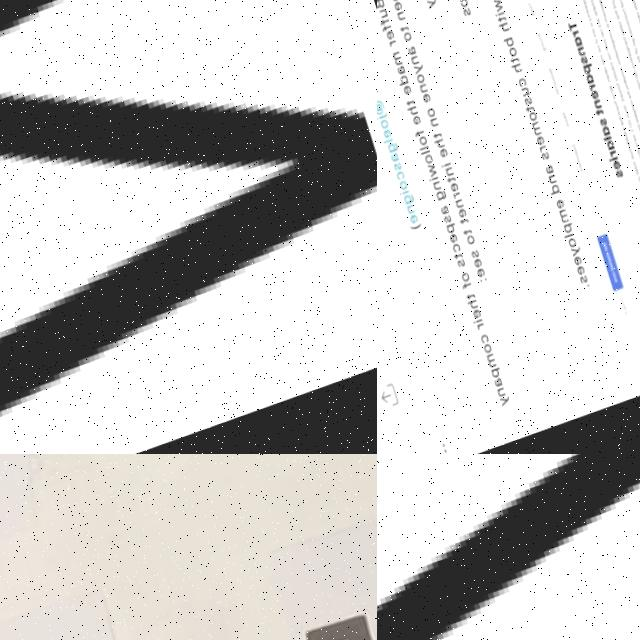5: (286, 572, 377, 640)
A: (388, 155, 399, 168), (492, 381, 503, 394), (405, 48, 416, 61), (604, 146, 615, 158), (600, 131, 610, 144), (584, 79, 594, 91), (438, 209, 448, 220), (395, 69, 405, 79), (543, 170, 553, 180), (572, 42, 582, 52)
B: (501, 41, 513, 53), (377, 0, 384, 12)
C: (516, 81, 526, 93), (478, 339, 488, 350), (450, 247, 460, 258), (394, 175, 404, 185)
D: (396, 78, 408, 90), (547, 189, 559, 201)
E: (571, 260, 582, 273), (401, 88, 412, 100), (420, 96, 431, 108), (456, 212, 467, 224), (574, 270, 585, 282), (472, 261, 482, 274), (448, 186, 458, 198), (554, 204, 564, 216), (382, 132, 392, 143), (410, 118, 420, 129), (447, 237, 457, 248), (470, 313, 480, 324), (408, 218, 418, 228), (392, 5, 402, 15), (437, 152, 447, 162), (475, 272, 485, 282), (534, 141, 544, 151), (611, 167, 621, 177), (385, 34, 393, 43), (590, 96, 598, 105)
F: (460, 285, 470, 295), (378, 21, 389, 30), (412, 133, 423, 142), (381, 27, 390, 36)
G: (386, 145, 398, 157), (402, 197, 414, 209), (433, 193, 445, 205)
H: (496, 26, 508, 38), (405, 110, 417, 121), (466, 304, 478, 315), (509, 68, 521, 79), (433, 144, 443, 154)
I: (607, 161, 618, 169), (398, 193, 408, 200), (428, 180, 438, 187), (472, 323, 482, 329), (440, 167, 450, 173), (494, 16, 504, 22)
J: (377, 116, 387, 123)
L: (562, 238, 572, 244), (382, 142, 392, 147), (420, 154, 430, 159), (419, 150, 427, 154), (602, 143, 610, 147)
M: (391, 55, 402, 70), (485, 358, 495, 373), (558, 214, 568, 229), (530, 127, 540, 141)
N: (0, 0, 377, 454), (404, 208, 414, 219), (428, 121, 438, 132), (443, 171, 453, 182), (430, 185, 440, 196), (495, 392, 505, 402), (394, 15, 404, 25), (453, 203, 463, 213), (546, 180, 556, 190), (409, 59, 418, 70), (592, 105, 601, 116), (576, 51, 584, 63), (418, 87, 426, 97)
O: (377, 121, 388, 134), (526, 115, 537, 128), (397, 182, 408, 194), (417, 139, 428, 151), (481, 348, 492, 360), (464, 238, 474, 251), (566, 242, 576, 255), (506, 51, 516, 63), (422, 157, 432, 168), (458, 276, 468, 287), (414, 77, 424, 88), (424, 111, 434, 122), (402, 36, 410, 45)
P: (488, 371, 501, 383), (458, 0, 470, 13), (444, 227, 456, 239), (562, 228, 574, 240), (582, 69, 594, 81), (389, 0, 401, 5)
R: (475, 327, 484, 335), (451, 196, 460, 204), (538, 150, 546, 158), (388, 43, 395, 51), (608, 156, 616, 163), (571, 36, 578, 43), (588, 90, 595, 97)
S: (391, 164, 402, 177), (461, 10, 472, 22), (441, 218, 451, 229), (522, 101, 532, 112), (578, 280, 588, 291), (454, 263, 464, 273), (468, 254, 478, 264), (539, 157, 549, 167), (577, 61, 587, 71), (598, 123, 606, 133), (614, 176, 622, 185)
T: (522, 109, 534, 119), (566, 26, 576, 38), (398, 27, 408, 37), (451, 256, 462, 265), (457, 221, 468, 230), (404, 102, 414, 111), (462, 233, 471, 242), (508, 61, 518, 69), (465, 297, 474, 305), (432, 135, 441, 143), (496, 20, 505, 28), (446, 180, 454, 188), (594, 114, 602, 122), (422, 0, 431, 4)
U: (377, 454, 640, 640), (377, 12, 387, 23), (519, 92, 529, 102)
W: (491, 2, 503, 18), (426, 168, 436, 183)
Y: (412, 67, 424, 79), (425, 2, 437, 14), (498, 399, 509, 412), (569, 251, 581, 262)
